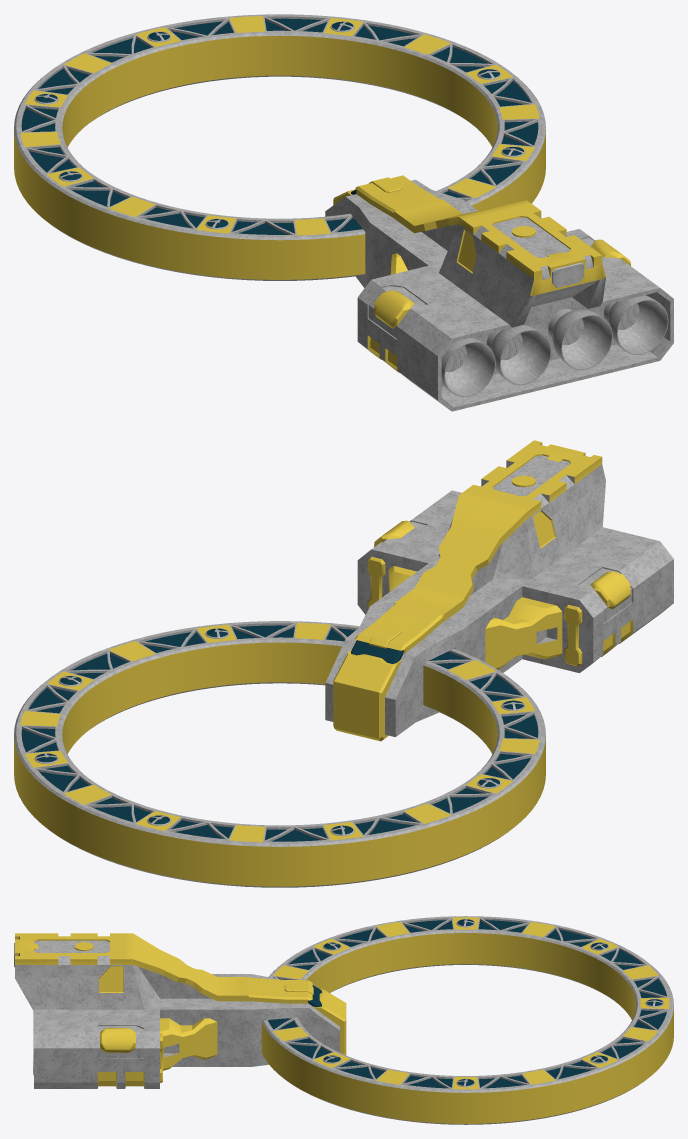
Rendered from Fregate_Sienceship.fbx.
3 renders of one model, top to bottom at view 1: azimuth 30°, elevation 25°; view 2: azimuth 150°, elevation 25°; view 3: azimuth 270°, elevation 25°, orthographic. The views are drawn at different scales.
Visible parts, largest first — view 1: ME_sience_vessel_Rotator, ME_Sience_vessel_Bridge; view 2: ME_sience_vessel_Rotator, ME_Sience_vessel_Bridge; view 3: ME_sience_vessel_Rotator, ME_Sience_vessel_Bridge.
Part boxes in pixels (x1,y1,x2,y2): ME_sience_vessel_Rotator: (14, 14, 545, 280); ME_Sience_vessel_Bridge: (325, 175, 673, 411); ME_sience_vessel_Rotator: (14, 621, 545, 887); ME_Sience_vessel_Bridge: (325, 440, 673, 741); ME_sience_vessel_Rotator: (261, 916, 673, 1124); ME_Sience_vessel_Bridge: (14, 933, 346, 1088).
Size of the model in its own units: 6600 by 1840 by 10466.
